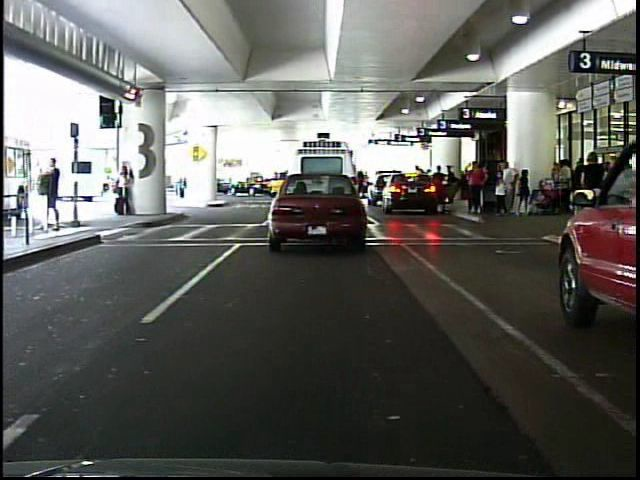person: (575, 148, 611, 231), (42, 151, 66, 235), (114, 160, 136, 217), (167, 159, 194, 202), (467, 161, 486, 216)
